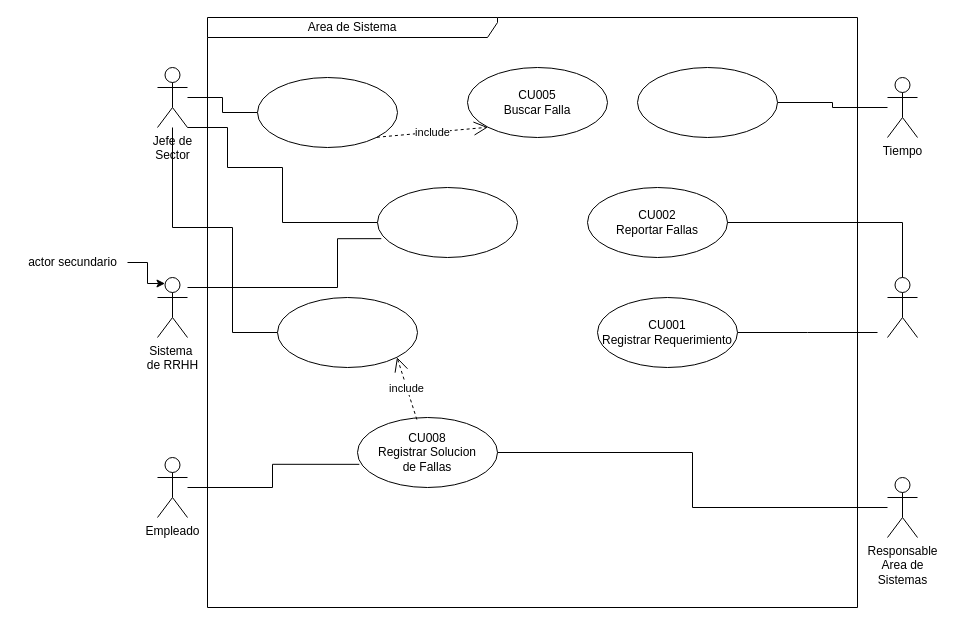
Image size: 954x625. Some labels were removed from this diagram. Here are the shapes that lost their labels. From the top down, the centre of each, then its label:
At point (327, 112): "CU004 Asignar Responsable de Fallas".
At point (707, 102): "CU003 Enviar Recordatorio de Fallas".
At point (447, 222): "CU006 Registrar Requerimiento de Capacitacion".
At point (902, 307): "Mesa de Ayuda".
At point (347, 332): "CU007 Consultar Fallas Asignadas".
